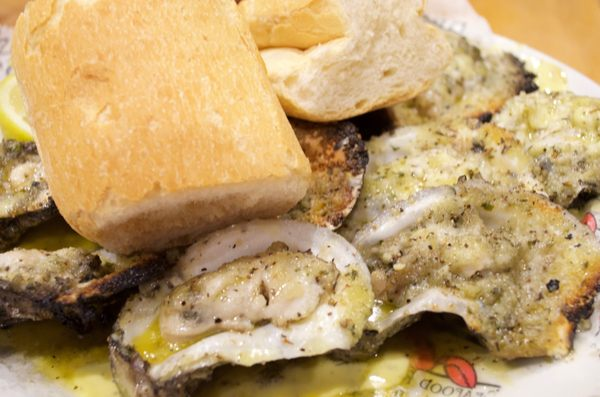soup: (5, 3, 314, 255)
